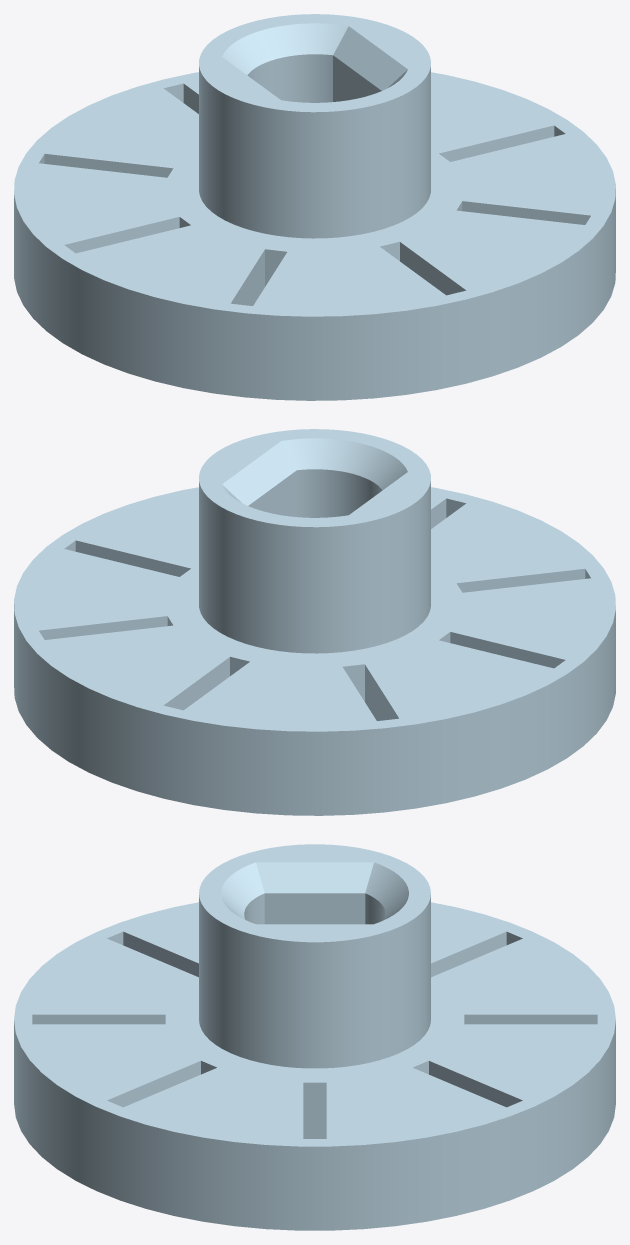
Rendered from Roda Encoder.gltf.
The picture shows the model from 3 angles, top to bottom: view 1: azimuth 30°, elevation 25°; view 2: azimuth 150°, elevation 25°; view 3: azimuth 270°, elevation 25°; orthographic projection.
Parts seen in each view (by area): view 1: Part 1; view 2: Part 1; view 3: Part 1.
Part boxes in pixels (<box>): Part 1: <box>14,14,615,400</box>; Part 1: <box>14,429,615,815</box>; Part 1: <box>14,844,615,1230</box>.
Size of the model in its own units: 0.0259 by 0.01 by 0.0259.
